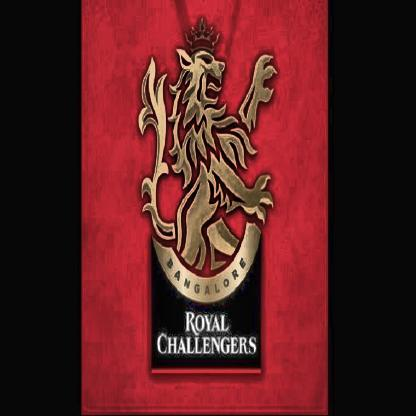Royal Challengers Bangalore: (134, 15, 276, 376)
